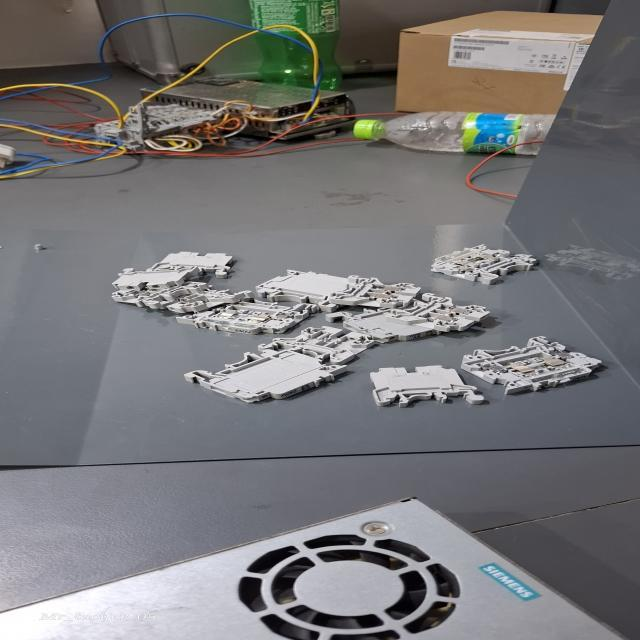Inverted: (356, 364, 484, 410), (104, 262, 199, 290), (149, 250, 242, 278)
Pass: (387, 292, 493, 342), (323, 274, 423, 306)
